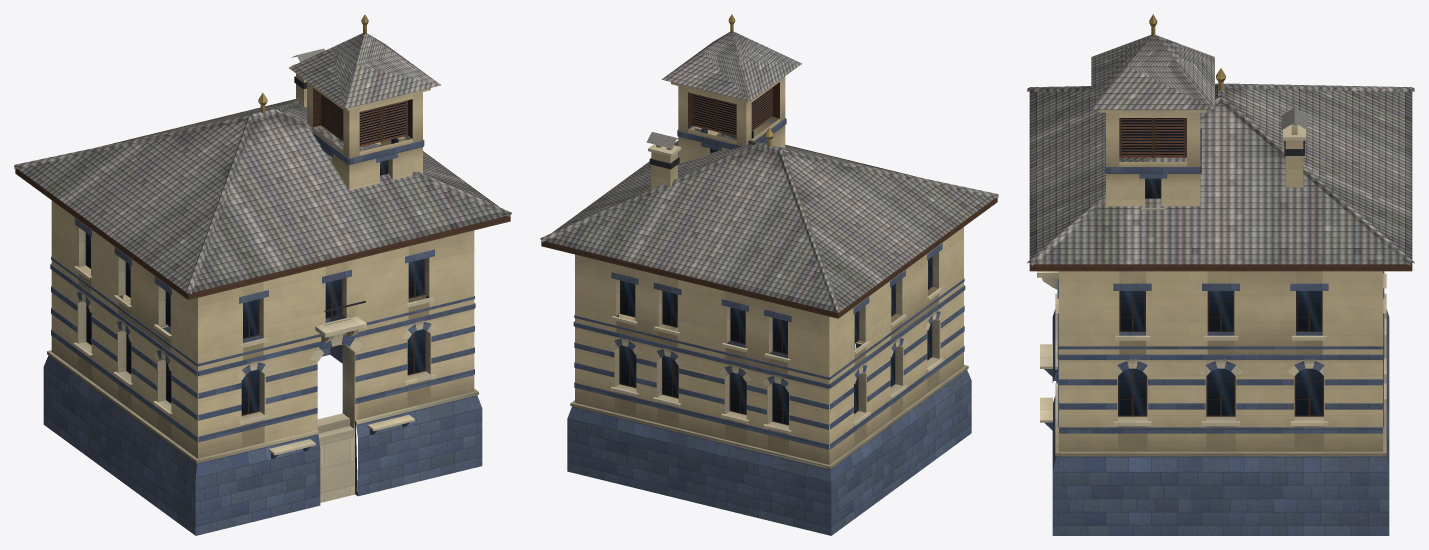
File: lodge_shell.gltf
The picture shows the model from 3 angles, left to right: view 1: azimuth 30°, elevation 25°; view 2: azimuth 150°, elevation 25°; view 3: azimuth 270°, elevation 25°; orthographic projection. The views are drawn at different scales.
Parts seen in each view (by area): view 1: lodge_shell; view 2: lodge_shell; view 3: lodge_shell.
Part boxes in pixels (box(x1,y1,x2,y2)): lodge_shell: box(14, 14, 511, 535); lodge_shell: box(540, 14, 998, 535); lodge_shell: box(1027, 14, 1414, 535).
Size of the model in its own units: 14.17 by 18.1 by 13.17.
Materials: 5 (5 with a texture image).
